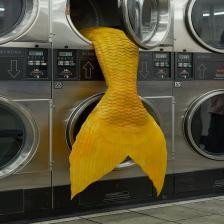yellow: (69, 26, 167, 198)
